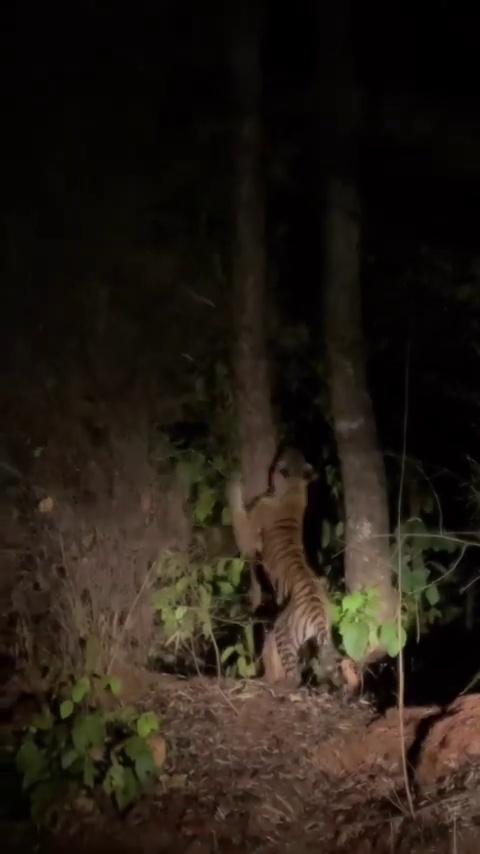Tiger: (223, 443, 364, 692)
